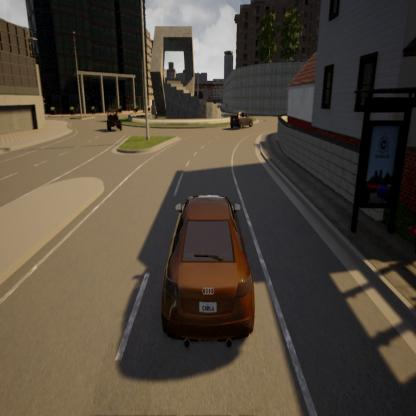Cars: (156, 188, 261, 356), (227, 102, 256, 135), (101, 102, 124, 136)
